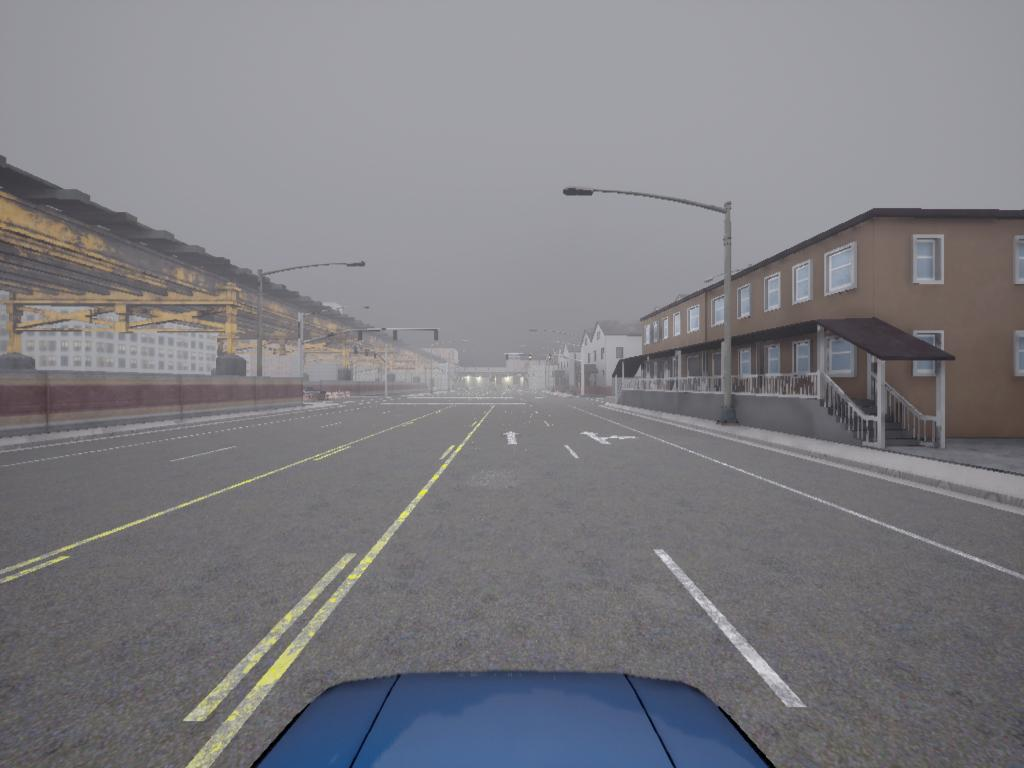traffic_light: (434, 331, 440, 341), (394, 331, 399, 342), (365, 349, 370, 359), (359, 332, 363, 342), (529, 355, 533, 363), (355, 347, 358, 356), (549, 354, 552, 363), (506, 354, 509, 362), (375, 353, 378, 360)
